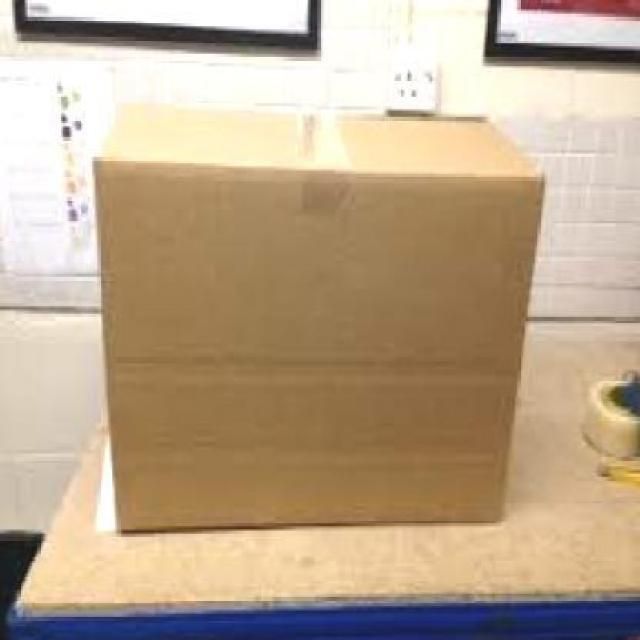box: (85, 86, 550, 554)
